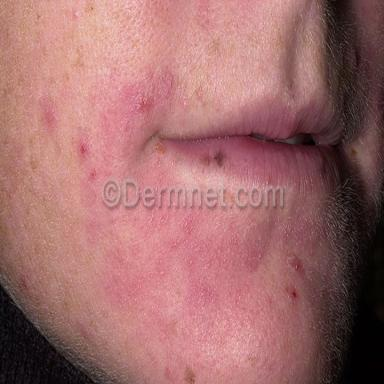acne: (39, 96, 57, 130), (133, 93, 153, 113), (292, 257, 303, 272), (80, 140, 89, 156), (286, 287, 297, 300), (91, 168, 96, 178)
